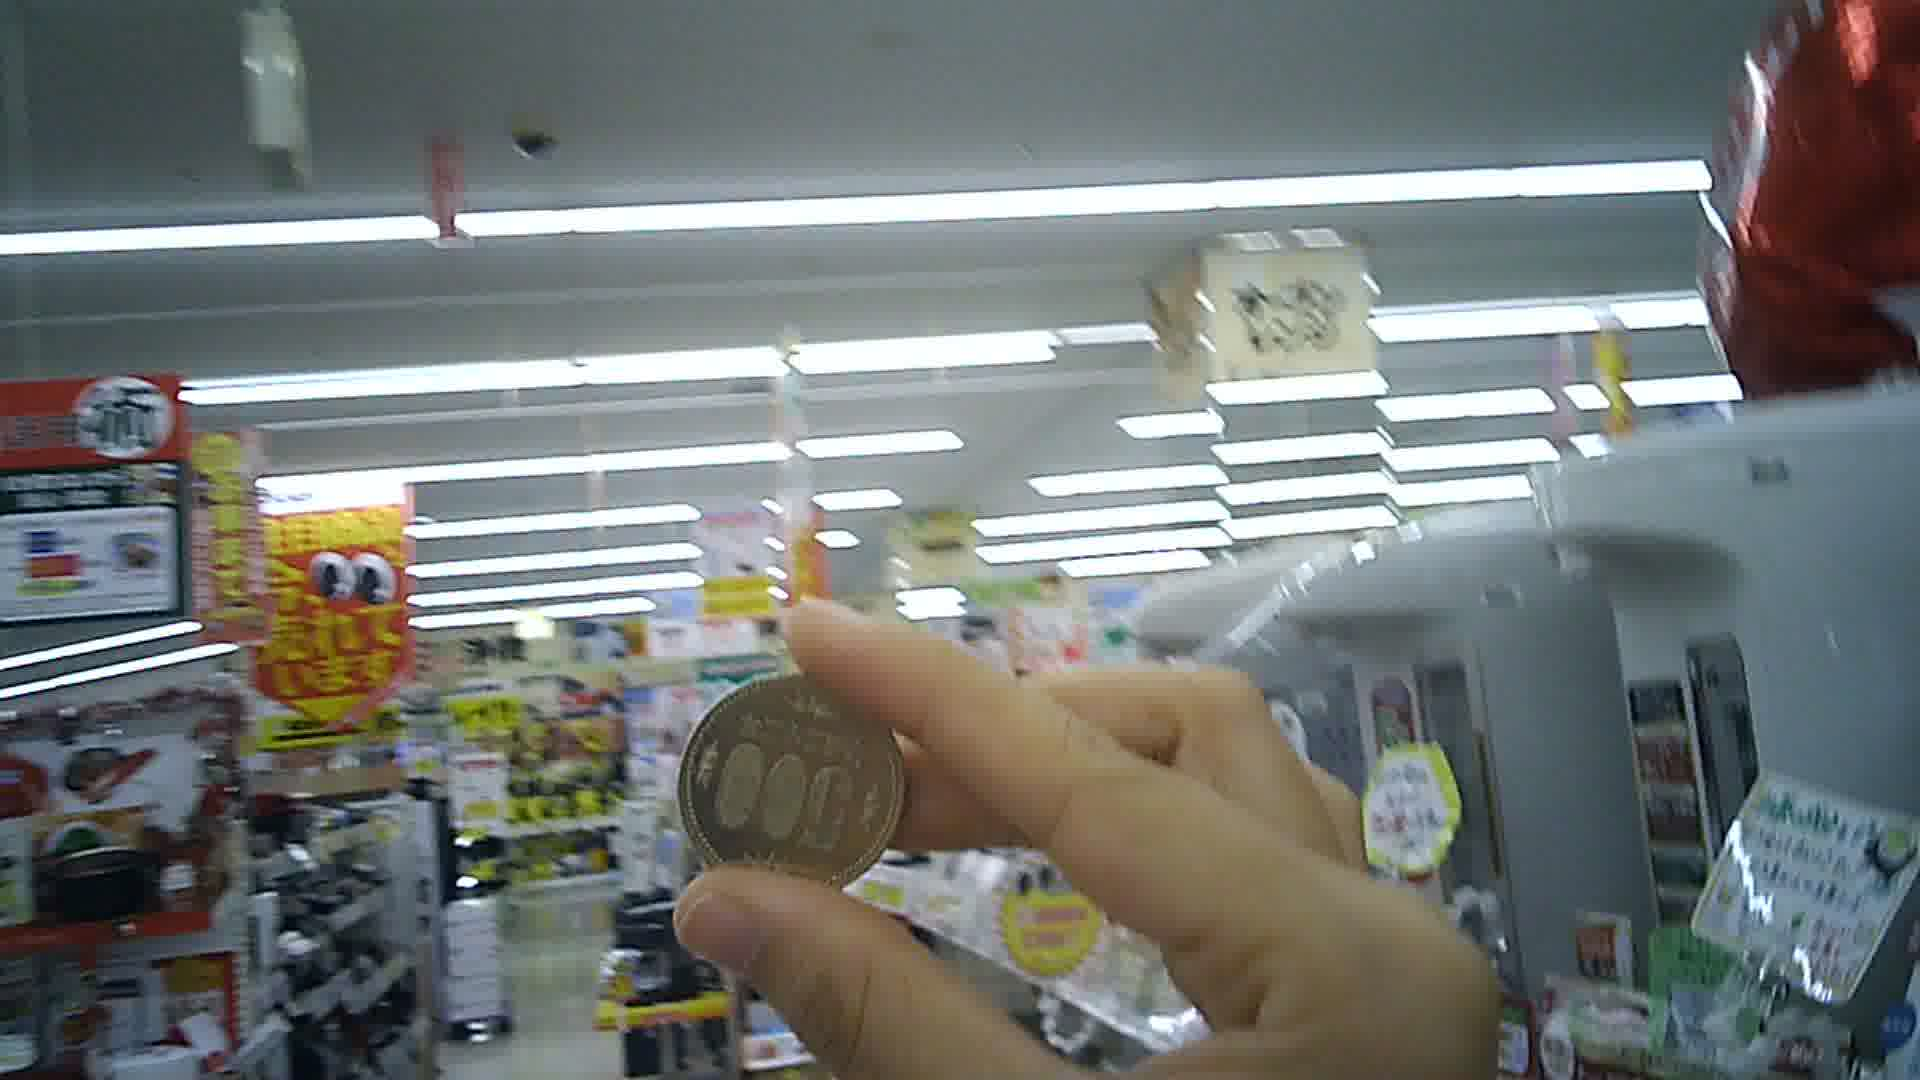500 Yen: (675, 666, 903, 882)
